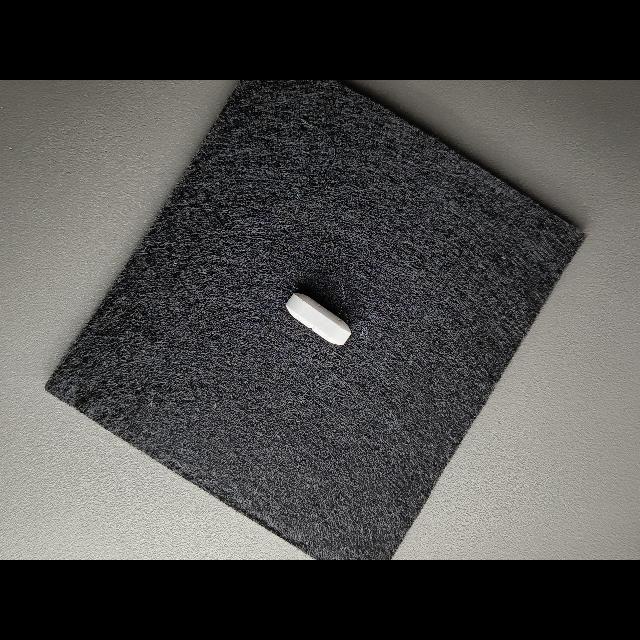Intact Pill: (286, 293, 352, 345)
